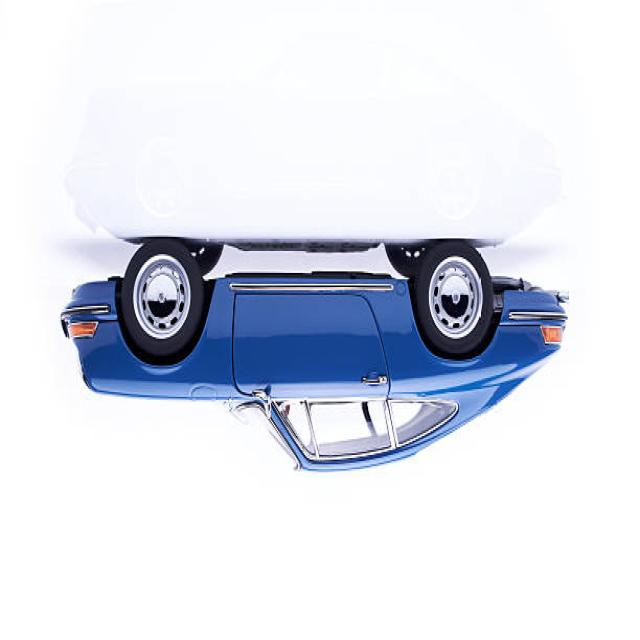Car: (59, 238, 569, 476)
